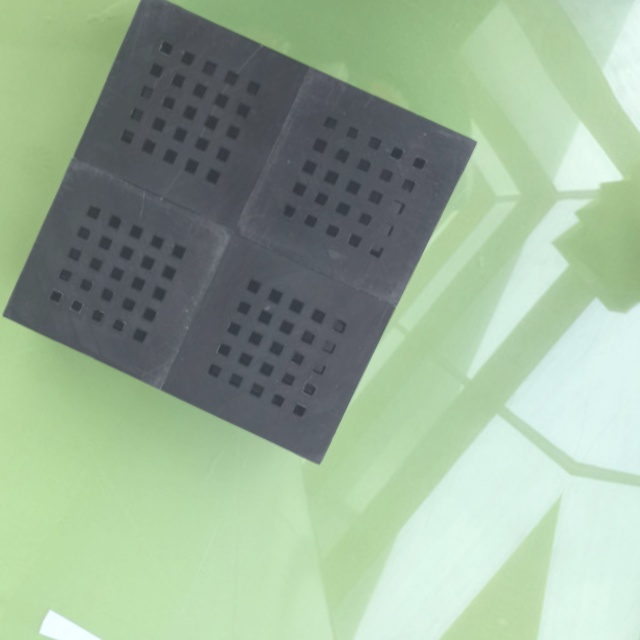pallet: (0, 0, 483, 477)
